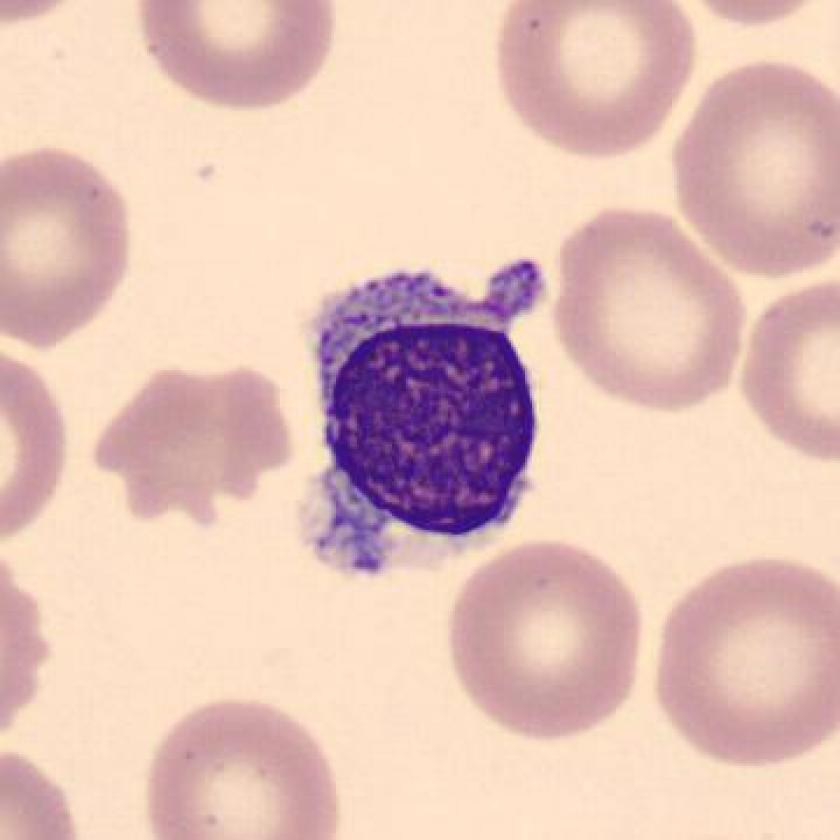lymphocyte: (274, 233, 580, 617)
